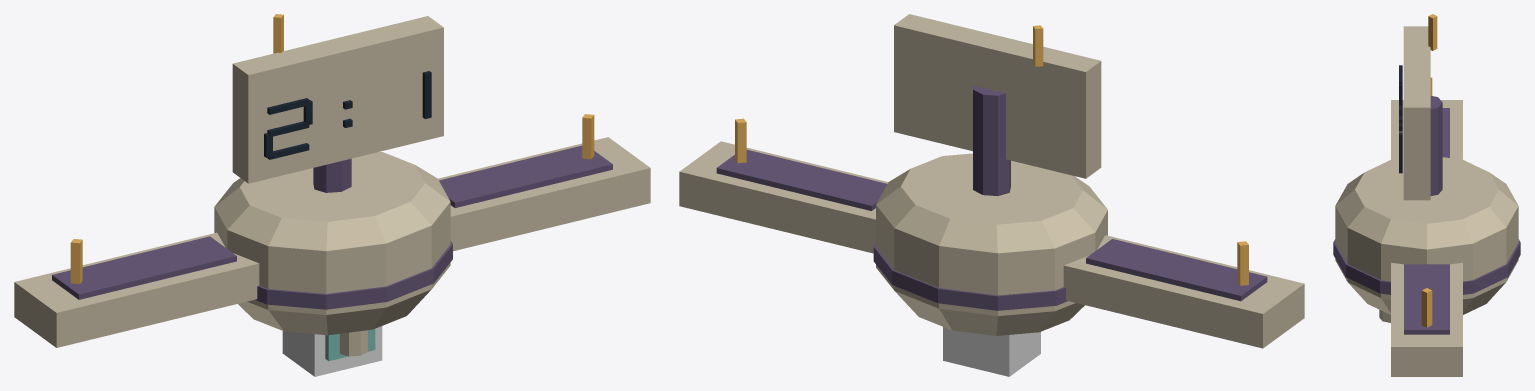
The model's file is space_port_2to1.glb.
3 renders of one model, left to right at view 1: azimuth 30°, elevation 25°; view 2: azimuth 150°, elevation 25°; view 3: azimuth 270°, elevation 25°, orthographic. The views are drawn at different scales.
Visible parts, largest first — view 1: FixedDetails, WoodBody, BrassTrim; view 2: FixedDetails, WoodBody, BrassTrim; view 3: FixedDetails, BrassTrim.
Boxes of the visible parts, box(x1,y1,x2,y2) form: FixedDetails: box(14, 16, 650, 360); WoodBody: box(282, 326, 382, 376); BrassTrim: box(70, 14, 594, 284); FixedDetails: box(679, 14, 1304, 348); WoodBody: box(943, 327, 1040, 376); BrassTrim: box(735, 25, 1248, 285); FixedDetails: box(1333, 26, 1520, 376); BrassTrim: box(1421, 14, 1437, 327).
Size of the model in its own units: 0.78 by 0.44 by 0.25.
